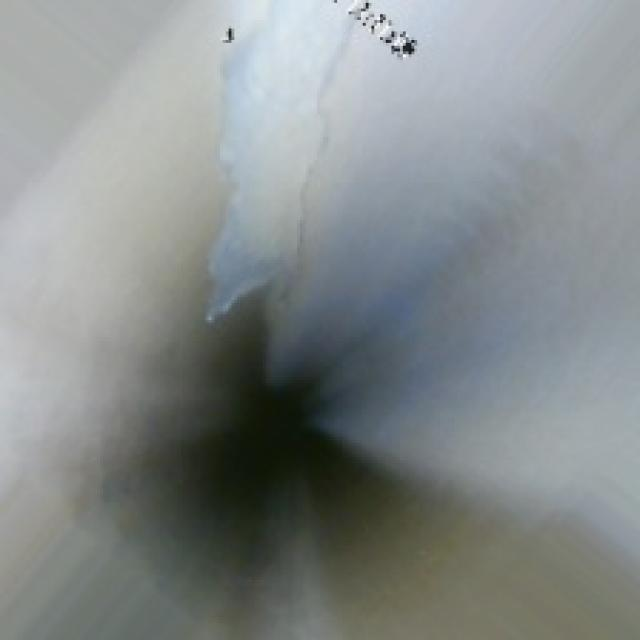pipe_surface_damage: (209, 57, 297, 323)
